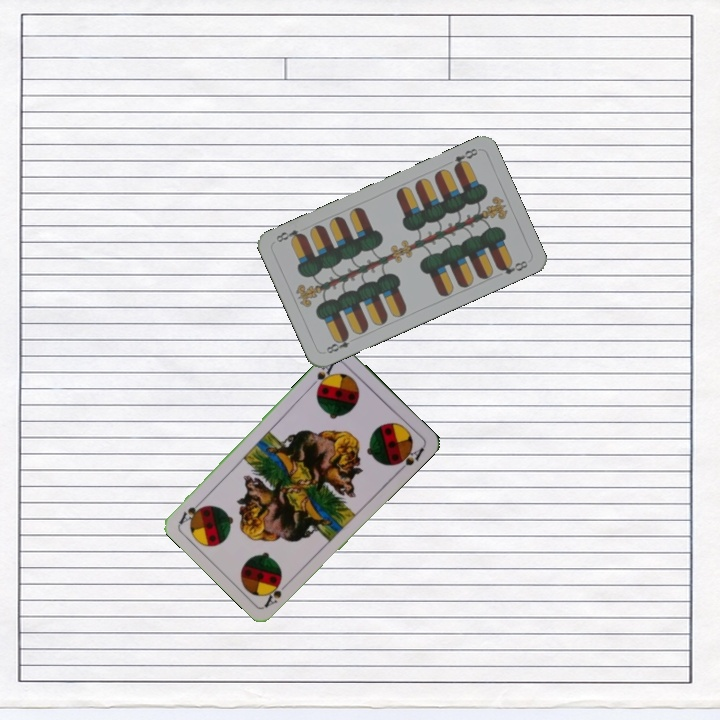E8: (449, 144, 480, 172), (322, 331, 352, 356)
SA: (307, 357, 338, 393), (261, 575, 293, 609)
